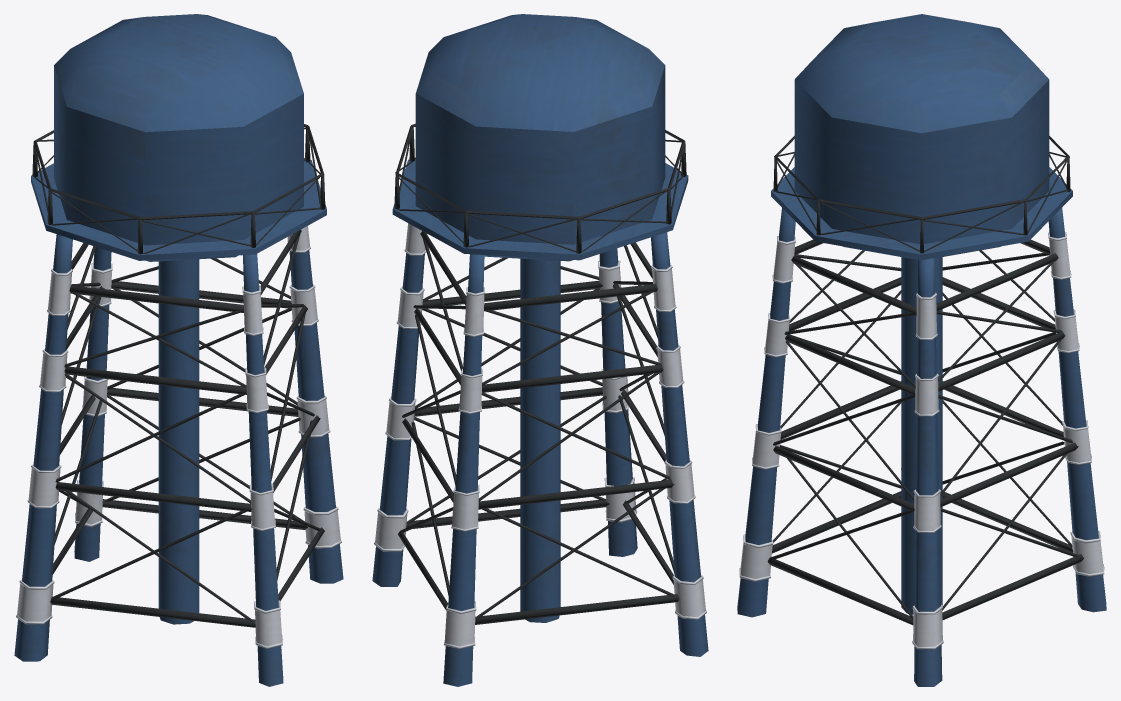
File: watertower.glb
3 renders of one model, left to right at view 1: azimuth 30°, elevation 25°; view 2: azimuth 150°, elevation 25°; view 3: azimuth 270°, elevation 25°, orthographic.
Visible parts, largest first — view 1: Object_84; view 2: Object_84; view 3: Object_84.
Part boxes in pixels (left/top/right/bottom): Object_84: left=14, top=14, right=343, bottom=686; Object_84: left=372, top=14, right=708, bottom=686; Object_84: left=737, top=14, right=1106, bottom=686.
Bounding box in the file's own units: 6 × 10.15 × 6.
1 material, 1 textured.
